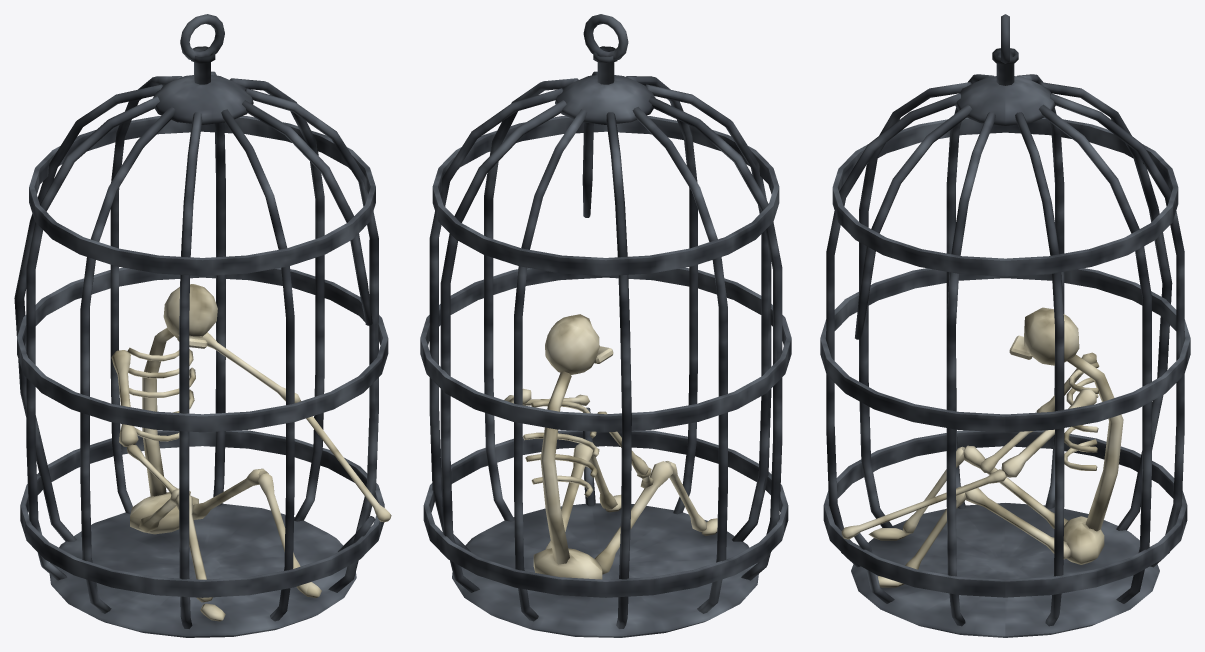
File: ENV_Cage.fbx
3 renders of one model, left to right at view 1: azimuth 30°, elevation 25°; view 2: azimuth 150°, elevation 25°; view 3: azimuth 270°, elevation 25°, orthographic.
Visible parts, largest first — view 1: ENV_Cage; view 2: ENV_Cage; view 3: ENV_Cage.
Part boxes in pixels (x1,y1,x2,y2): ENV_Cage: (14,14,391,637); ENV_Cage: (420,14,791,637); ENV_Cage: (820,14,1190,637).
Bounding box in the file's own units: 1.27 × 2.3 × 1.27.
